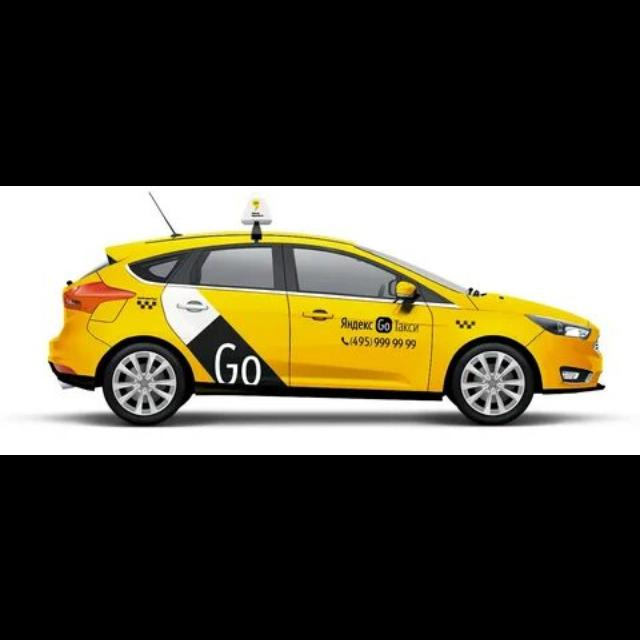taxi: (48, 192, 606, 426)
